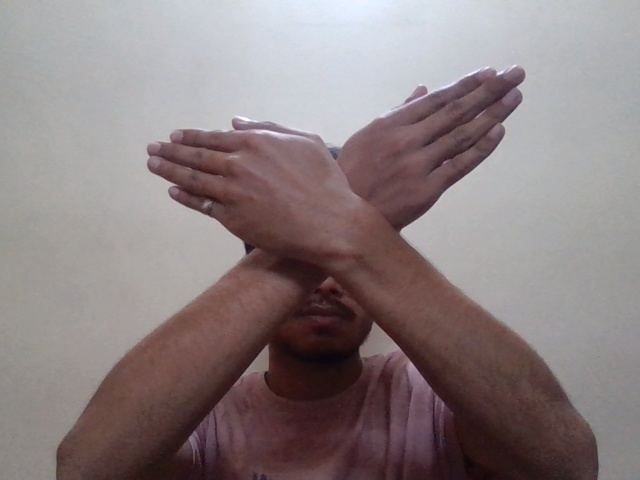feel: (129, 66, 561, 345)
